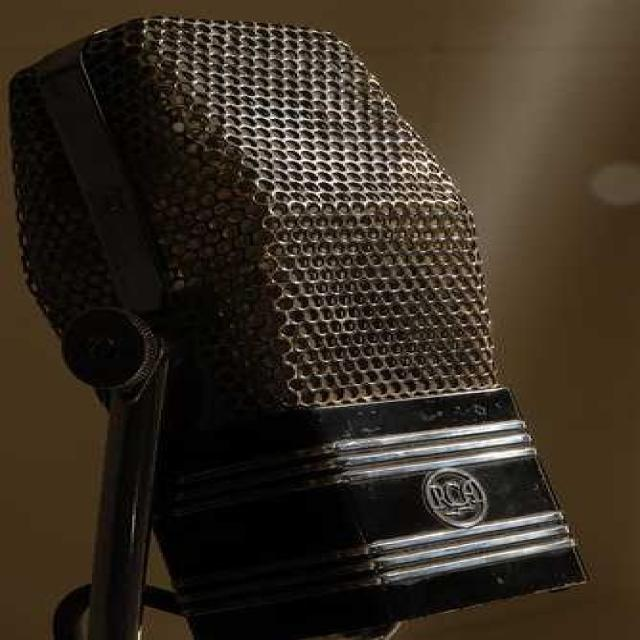microphone: (12, 16, 583, 633)
